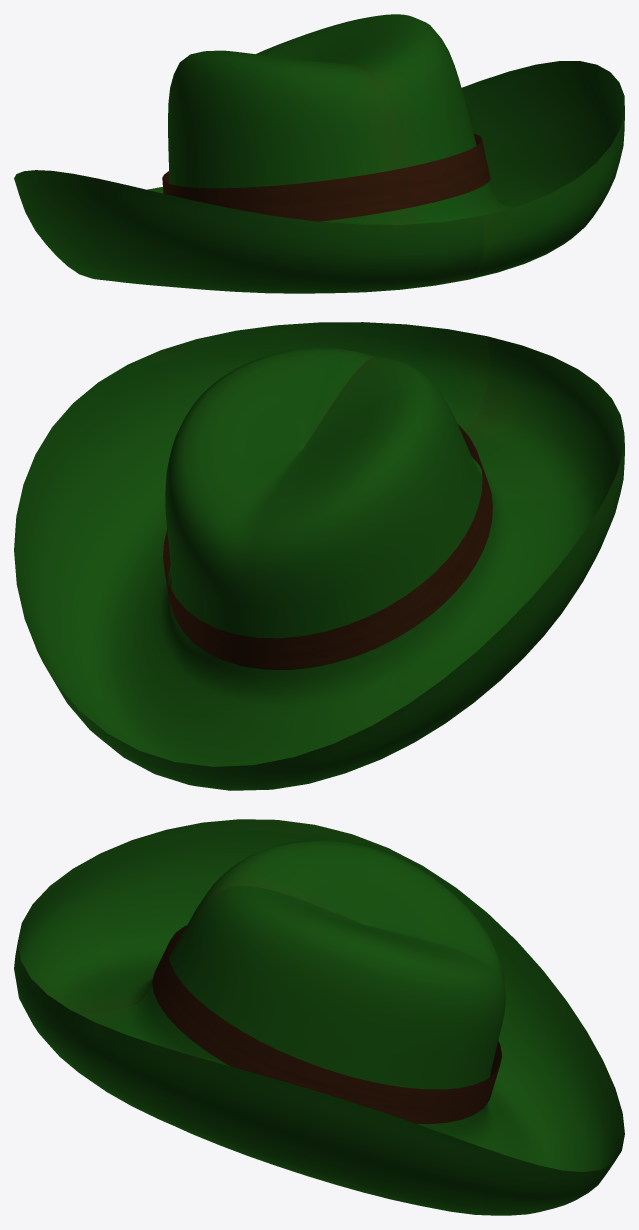
File: hat.yellow.glb
The picture shows the model from 3 angles, top to bottom: view 1: azimuth 30°, elevation 25°; view 2: azimuth 150°, elevation 25°; view 3: azimuth 270°, elevation 25°; orthographic projection. The views are drawn at different scales.
Visible parts, largest first — view 1: Head; view 2: Head; view 3: Head.
Part boxes in pixels (<box>): Head: <box>14,14,624,293</box>; Head: <box>14,322,624,790</box>; Head: <box>14,819,624,1215</box>.
Size of the model in its own units: 0.3867 by 0.2158 by 0.3984.
Materials: 1 (1 with a texture image).
